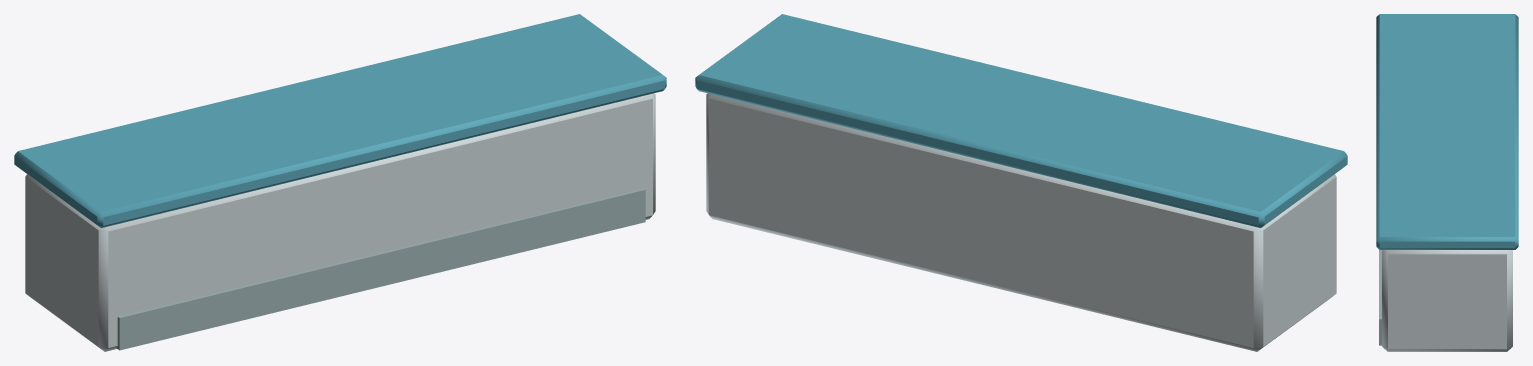
Rendered from tile_bench.glb.
3 renders of one model, left to right at view 1: azimuth 30°, elevation 25°; view 2: azimuth 150°, elevation 25°; view 3: azimuth 270°, elevation 25°, orthographic. The views are drawn at different scales.
Visible parts, largest first — view 1: TileBench; view 2: TileBench; view 3: TileBench.
Part boxes in pixels (x1,y1,x2,y2): TileBench: (14, 14, 666, 351); TileBench: (695, 14, 1347, 351); TileBench: (1376, 14, 1518, 351).
Size of the model in its own units: 1.84 by 0.45 by 0.49.
